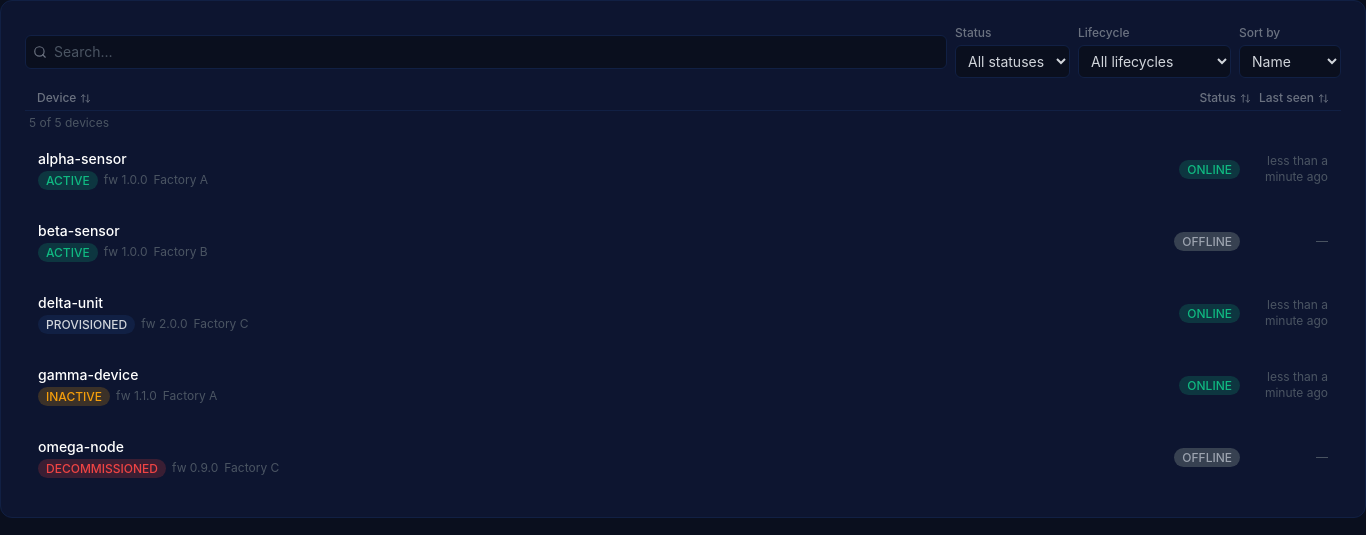
search filter narrows results
The width and height of the screenshot is (1366, 535).
Type "alpha" into the search field at (486, 52), box [25,34,947,68]
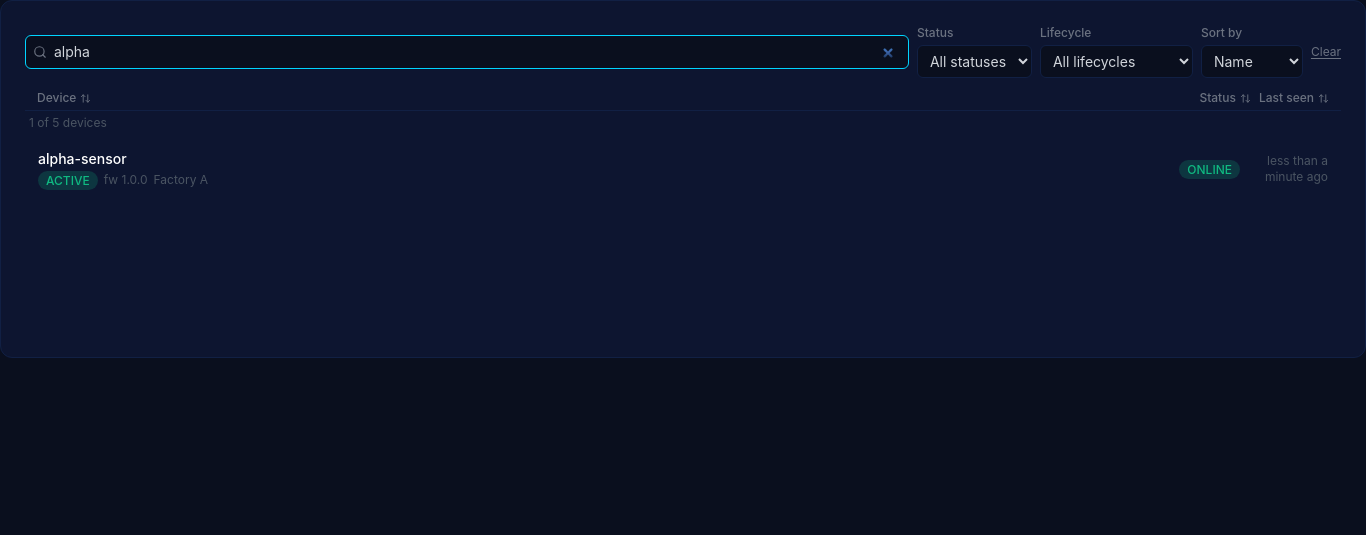
Expected: the text "alpha-sensor" is shown, [38,150,127,166]
Expected: the text "beta-sensor" is gone
